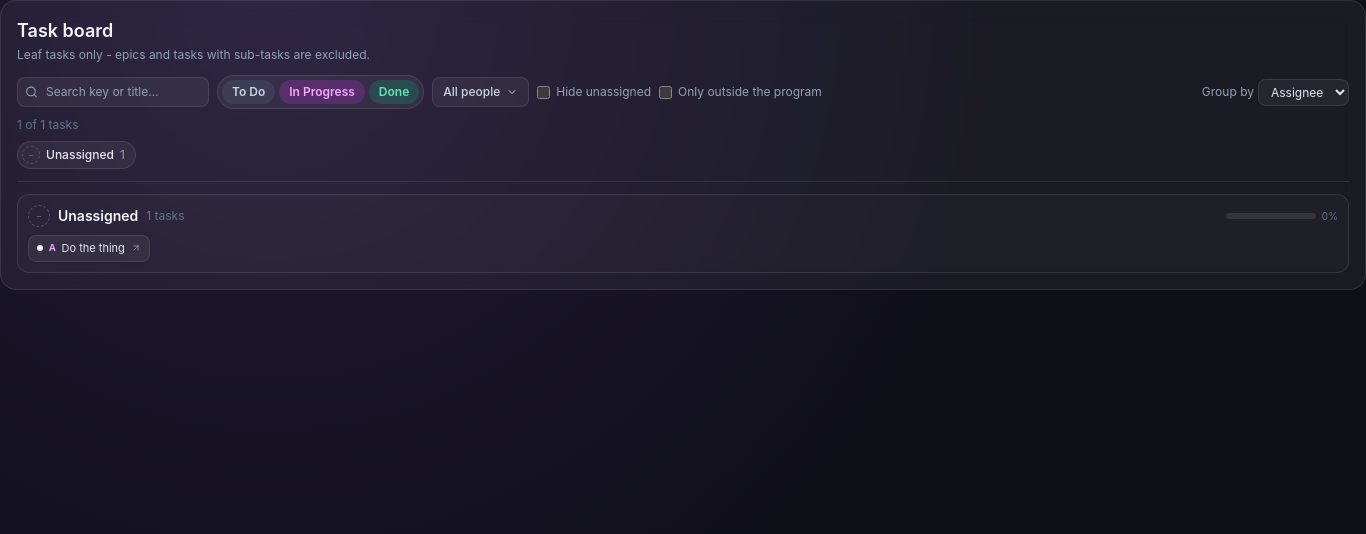
Test: AtlasTaskBoard › switches to collapsed epic cards when grouped by epic, expanding on click
Expected: the text "A" is shown, [49,240,56,256]
Select "Epic" in the dropdown named "Group tasks by" at (1304, 92), box [1258,78,1349,106]
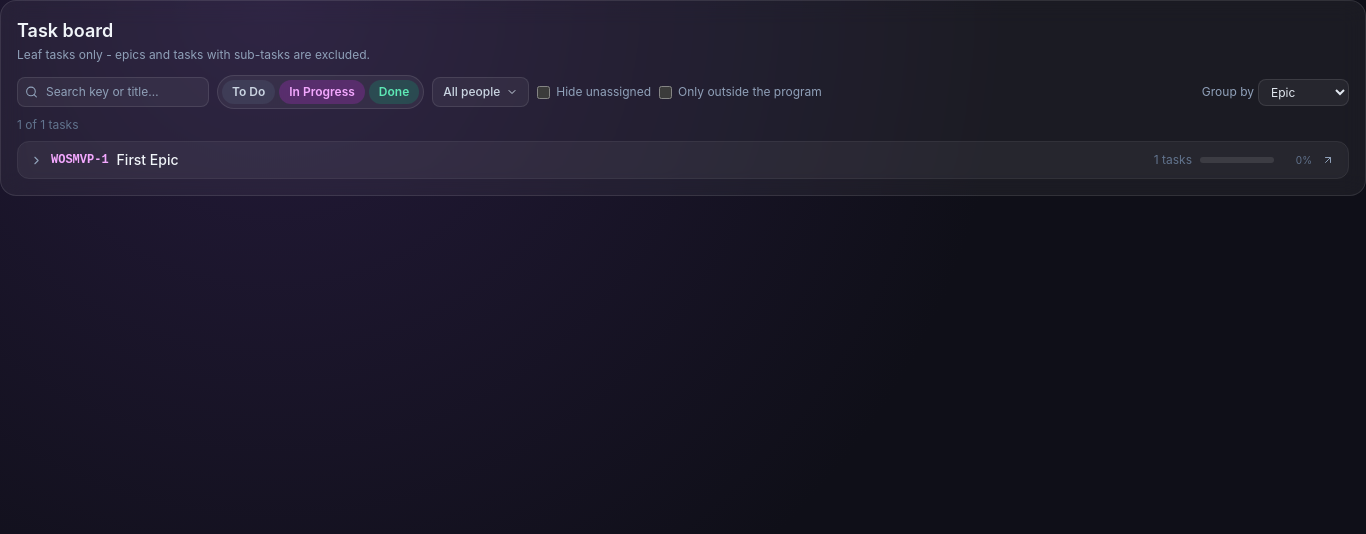
Now the text "First Epic" is shown
Click the text "First Epic" at (148, 160), box [117,151,178,168]
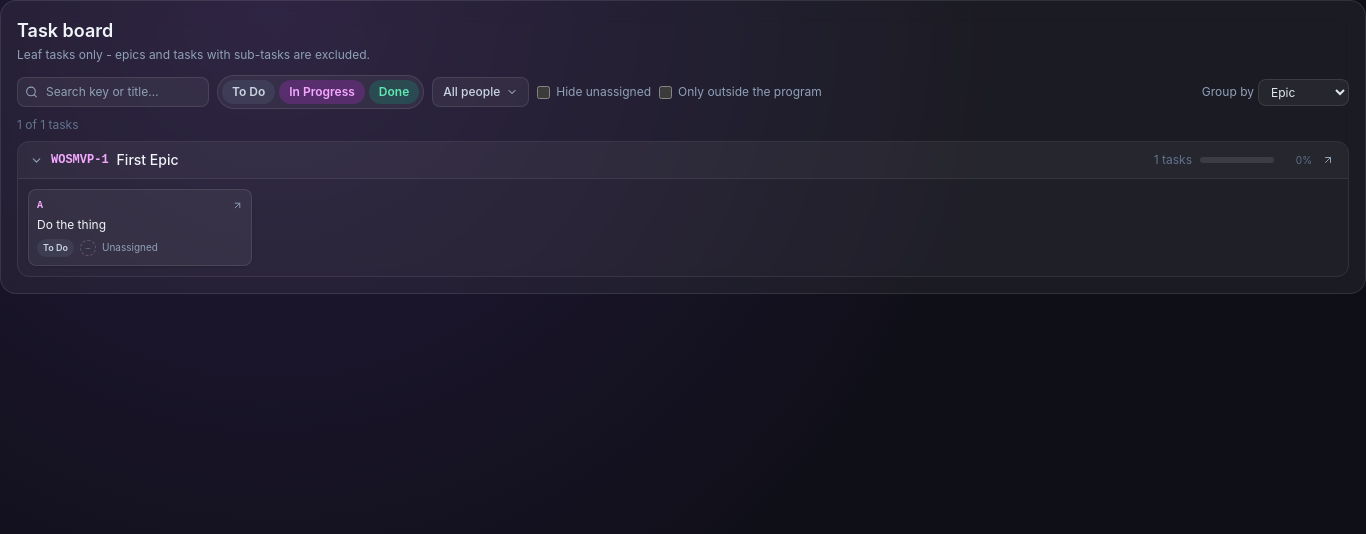
Now the text "A" is shown, box [37,198,43,213]
